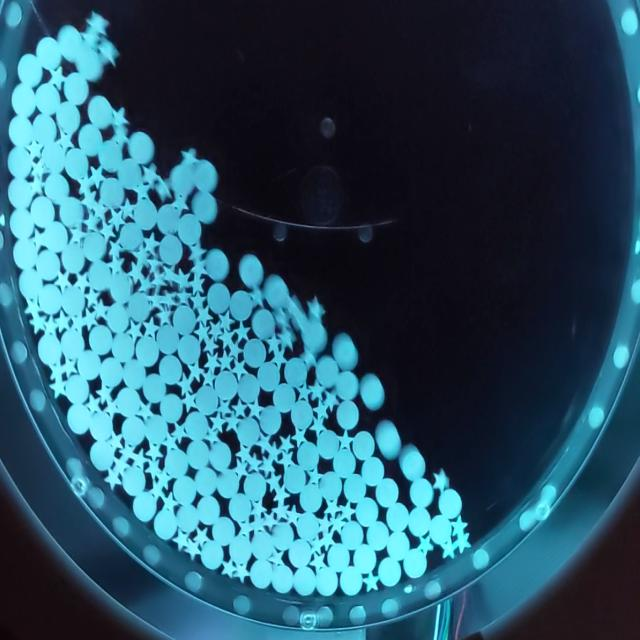disco blanco: (35, 34, 65, 70), (375, 419, 401, 459), (56, 24, 82, 63), (77, 46, 105, 82), (358, 372, 383, 410), (333, 333, 358, 370), (36, 81, 62, 116), (190, 190, 218, 222), (130, 490, 157, 523), (16, 52, 42, 86), (31, 111, 57, 145), (64, 72, 90, 106), (76, 122, 102, 156), (194, 157, 219, 192), (262, 272, 286, 308), (128, 130, 154, 163), (8, 207, 34, 240), (34, 248, 60, 281), (31, 195, 56, 229), (87, 95, 114, 126), (55, 102, 82, 133), (169, 163, 195, 195), (176, 213, 202, 245), (333, 368, 359, 400), (67, 400, 90, 436), (238, 253, 263, 286), (11, 84, 35, 118), (400, 446, 424, 480), (7, 115, 34, 145), (154, 204, 181, 234), (64, 148, 89, 180), (6, 176, 30, 209), (207, 248, 230, 282), (118, 159, 144, 189), (302, 322, 328, 352), (340, 472, 366, 502), (354, 495, 380, 525), (374, 476, 400, 506), (402, 548, 428, 578), (409, 476, 434, 507), (7, 145, 31, 177), (177, 332, 201, 364), (142, 371, 166, 403), (292, 564, 316, 596), (38, 333, 61, 366), (107, 302, 130, 335), (171, 475, 197, 504), (41, 142, 66, 172), (194, 384, 219, 414), (164, 448, 189, 478), (352, 430, 377, 460), (339, 566, 364, 596), (98, 140, 122, 171), (65, 372, 89, 403), (257, 361, 281, 392), (438, 488, 462, 519), (430, 513, 453, 545), (274, 382, 296, 415), (361, 457, 386, 486), (378, 556, 403, 585), (101, 176, 125, 206), (16, 266, 40, 296), (45, 172, 69, 202), (60, 198, 84, 228), (159, 355, 183, 385), (117, 387, 141, 417), (184, 410, 208, 440), (154, 510, 178, 540), (243, 472, 267, 502), (384, 503, 408, 533), (82, 230, 105, 261), (91, 440, 114, 471), (249, 558, 272, 589), (44, 219, 66, 251), (39, 282, 61, 314), (230, 289, 252, 321), (215, 369, 237, 401), (285, 356, 307, 388), (284, 464, 306, 496), (211, 520, 238, 546), (315, 568, 340, 596), (122, 360, 146, 389), (270, 521, 294, 550), (287, 539, 311, 568), (298, 484, 322, 513), (384, 530, 408, 559), (62, 242, 85, 272), (109, 272, 132, 302), (133, 200, 156, 230), (156, 324, 179, 354), (316, 429, 339, 459), (333, 448, 356, 478), (316, 356, 339, 386), (354, 544, 377, 574), (161, 235, 183, 266), (101, 357, 123, 388), (244, 337, 266, 368), (128, 291, 149, 323), (143, 416, 167, 444), (228, 535, 252, 563), (409, 506, 430, 538), (13, 238, 36, 267), (207, 283, 230, 312), (160, 394, 183, 423), (328, 543, 351, 572), (120, 222, 142, 252), (174, 305, 196, 335), (90, 411, 112, 441), (196, 466, 218, 496), (124, 466, 146, 496), (252, 308, 274, 338), (260, 404, 282, 434), (78, 349, 99, 380), (235, 418, 260, 444), (339, 520, 364, 546), (63, 286, 86, 314), (61, 330, 84, 358), (202, 542, 225, 570), (296, 443, 319, 471), (320, 471, 343, 499), (366, 522, 389, 550), (136, 338, 158, 367), (217, 470, 239, 499), (336, 400, 358, 429), (111, 333, 134, 360), (290, 401, 313, 428), (90, 326, 112, 354), (186, 440, 208, 468), (250, 530, 272, 558), (89, 261, 110, 290), (238, 373, 259, 402), (124, 414, 144, 444), (298, 512, 318, 542), (200, 496, 220, 525), (208, 442, 229, 468), (272, 568, 293, 594), (178, 505, 198, 532), (230, 494, 250, 520)
estrella blanca: (285, 292, 306, 328), (84, 10, 110, 35), (53, 309, 74, 335), (84, 162, 106, 186), (277, 447, 299, 471), (182, 533, 200, 562), (448, 512, 468, 538), (99, 39, 118, 66), (160, 284, 178, 312), (79, 24, 99, 49), (177, 142, 198, 165), (452, 531, 473, 554), (172, 187, 190, 213), (131, 182, 153, 203), (46, 377, 67, 399), (153, 176, 173, 199), (217, 305, 235, 330), (246, 396, 264, 421), (104, 466, 122, 491), (143, 160, 159, 188), (308, 297, 324, 325), (128, 257, 145, 283), (146, 286, 163, 312), (188, 284, 205, 310), (53, 270, 74, 291), (108, 126, 130, 146), (46, 66, 66, 88), (28, 313, 48, 335), (73, 269, 92, 292), (109, 429, 125, 456), (178, 388, 196, 412), (322, 494, 340, 518), (361, 568, 379, 592), (31, 227, 48, 252), (23, 294, 40, 319), (217, 347, 234, 372), (84, 287, 104, 308), (188, 242, 208, 263), (254, 432, 274, 453), (27, 173, 46, 195), (105, 255, 127, 274), (94, 383, 116, 402), (299, 348, 318, 370), (135, 243, 151, 269), (142, 231, 158, 257), (234, 317, 250, 343), (218, 327, 236, 350), (59, 126, 76, 150), (195, 302, 212, 326), (267, 440, 284, 464), (194, 525, 211, 549), (29, 159, 49, 179), (161, 488, 177, 513), (248, 498, 268, 518), (70, 312, 88, 334), (126, 319, 144, 341), (155, 306, 173, 328), (170, 422, 188, 444), (82, 308, 99, 331), (173, 529, 190, 552), (251, 513, 268, 536), (338, 500, 355, 523), (120, 196, 136, 220), (156, 467, 172, 491), (271, 500, 287, 524), (432, 467, 448, 491), (190, 260, 209, 280), (334, 429, 354, 448), (26, 138, 44, 159), (274, 309, 292, 330), (61, 357, 79, 378), (231, 458, 249, 479), (118, 441, 136, 462), (145, 456, 163, 477), (175, 266, 190, 291), (325, 387, 340, 412), (93, 300, 110, 322), (227, 340, 244, 362), (258, 454, 275, 476), (146, 440, 163, 462), (85, 210, 101, 233), (250, 286, 266, 309), (306, 464, 322, 487), (68, 224, 86, 244), (100, 218, 115, 242), (107, 236, 125, 256), (202, 335, 220, 355), (277, 326, 292, 350), (143, 315, 158, 339), (291, 427, 309, 447), (111, 105, 128, 126), (76, 176, 93, 197), (186, 360, 203, 381), (177, 373, 194, 394), (231, 399, 248, 420), (279, 432, 296, 453), (138, 400, 154, 422), (310, 381, 326, 403), (162, 431, 178, 453), (310, 550, 326, 572), (440, 537, 456, 559), (87, 392, 101, 417), (44, 313, 59, 336), (188, 276, 206, 295), (102, 401, 120, 420), (235, 441, 252, 461), (149, 478, 166, 498), (208, 317, 222, 341), (274, 484, 290, 505), (133, 446, 147, 470), (147, 254, 162, 276), (205, 352, 220, 374), (233, 358, 248, 380), (267, 334, 282, 356), (246, 452, 261, 474), (286, 506, 301, 528), (238, 518, 256, 536), (226, 411, 240, 434), (92, 198, 108, 218), (205, 426, 221, 446), (310, 414, 326, 434), (222, 558, 238, 578), (268, 547, 284, 567), (319, 528, 335, 548), (114, 456, 129, 477), (316, 513, 331, 534), (419, 534, 434, 555), (110, 208, 124, 230), (138, 274, 152, 296), (268, 470, 282, 492), (272, 346, 286, 368), (209, 414, 226, 432), (175, 287, 191, 306), (83, 191, 98, 211), (151, 271, 165, 292), (217, 397, 231, 418), (298, 381, 312, 402), (263, 511, 277, 532), (330, 513, 344, 534), (314, 399, 329, 418), (235, 562, 250, 581), (163, 264, 177, 284), (49, 363, 63, 383), (196, 322, 209, 342), (204, 368, 217, 388), (310, 540, 323, 554)
